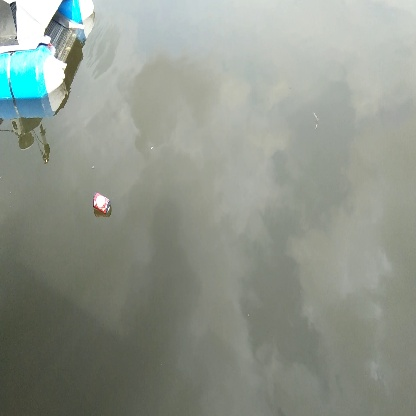bottle: (90, 191, 115, 217)
